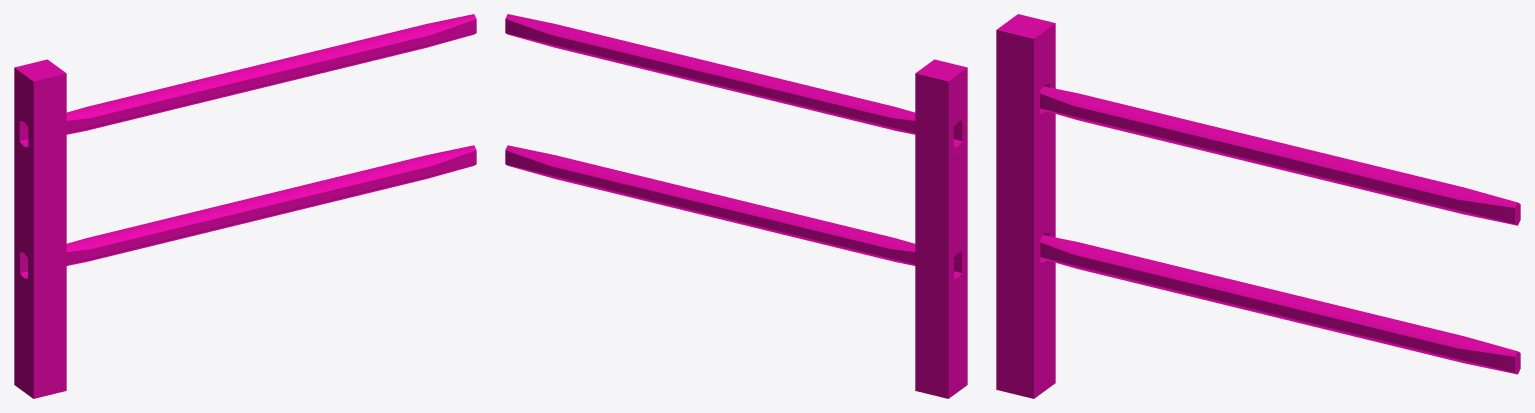
The model's file is Envi_Fence_Half_v01.fbx.
3 renders of one model, left to right at view 1: azimuth 30°, elevation 25°; view 2: azimuth 150°, elevation 25°; view 3: azimuth 330°, elevation 25°, orthographic. The views are drawn at different scales.
Visible parts, largest first — view 1: Truck_Ex_Set02_Fence_StandingPole_02, Truck_Ex_Set02_Fence_LongPole_01, Truck_Ex_Set02_Fence_LongPole_02; view 2: Truck_Ex_Set02_Fence_StandingPole_02, Truck_Ex_Set02_Fence_LongPole_02, Truck_Ex_Set02_Fence_LongPole_01; view 3: Truck_Ex_Set02_Fence_StandingPole_02, Truck_Ex_Set02_Fence_LongPole_01, Truck_Ex_Set02_Fence_LongPole_02.
Part boxes in pixels (x1,y1,x2,y2): Truck_Ex_Set02_Fence_StandingPole_02: (14,59,66,398); Truck_Ex_Set02_Fence_LongPole_01: (66,14,476,134); Truck_Ex_Set02_Fence_LongPole_02: (66,145,476,265); Truck_Ex_Set02_Fence_StandingPole_02: (915,59,967,398); Truck_Ex_Set02_Fence_LongPole_02: (505,145,915,265); Truck_Ex_Set02_Fence_LongPole_01: (505,14,915,134); Truck_Ex_Set02_Fence_StandingPole_02: (996,14,1055,398); Truck_Ex_Set02_Fence_LongPole_01: (1040,86,1520,225); Truck_Ex_Set02_Fence_LongPole_02: (1040,235,1520,374).
Size of the model in its own units: 57.82 by 38.95 by 4.26.
